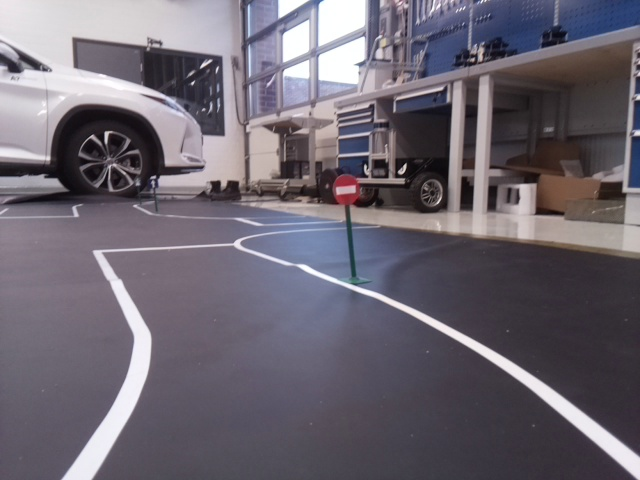NoEntry: (331, 173, 360, 204)
OneWay: (147, 178, 158, 189)
